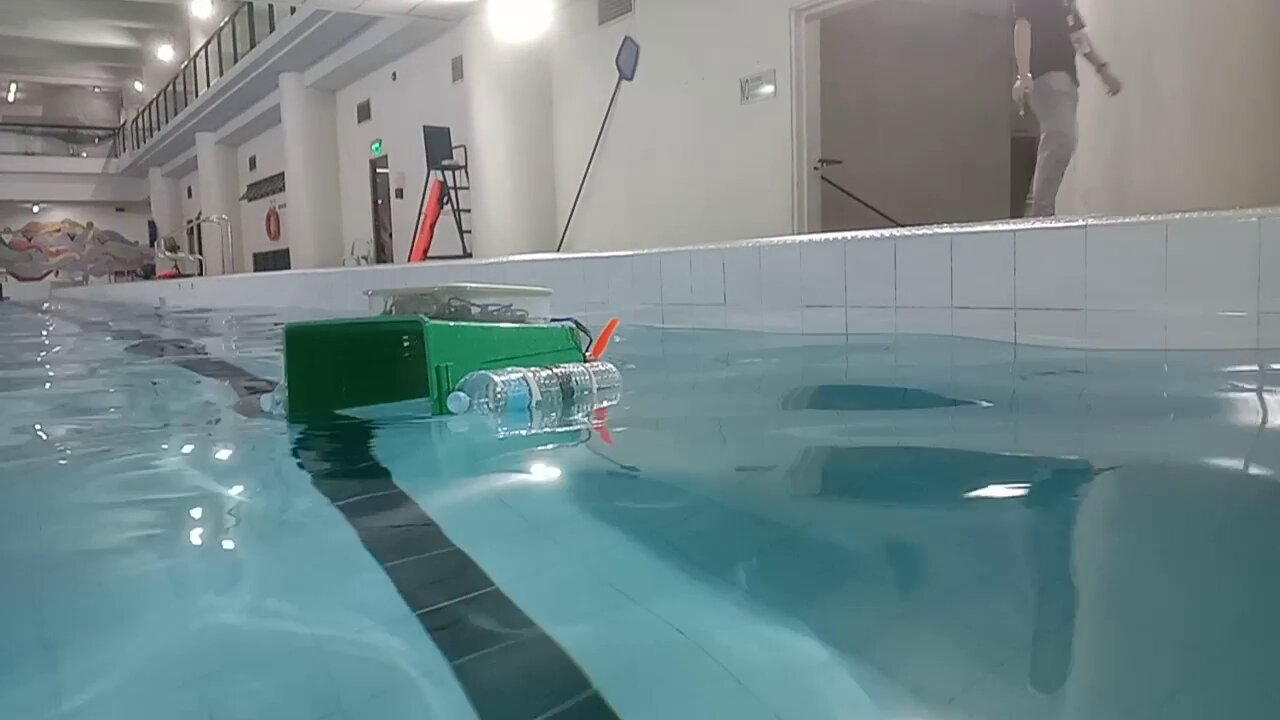drone: (260, 280, 623, 426)
